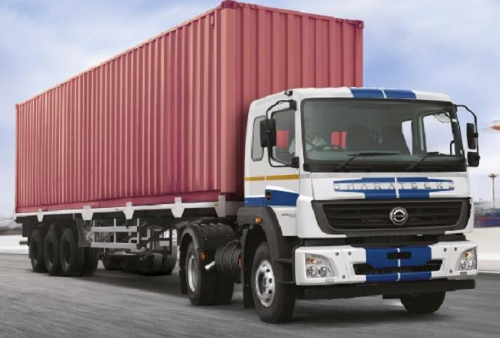truck: (1, 1, 486, 325)
